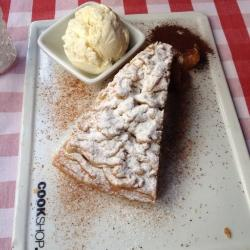apple_pie: (51, 40, 184, 210)
icecream: (60, 2, 130, 77)
